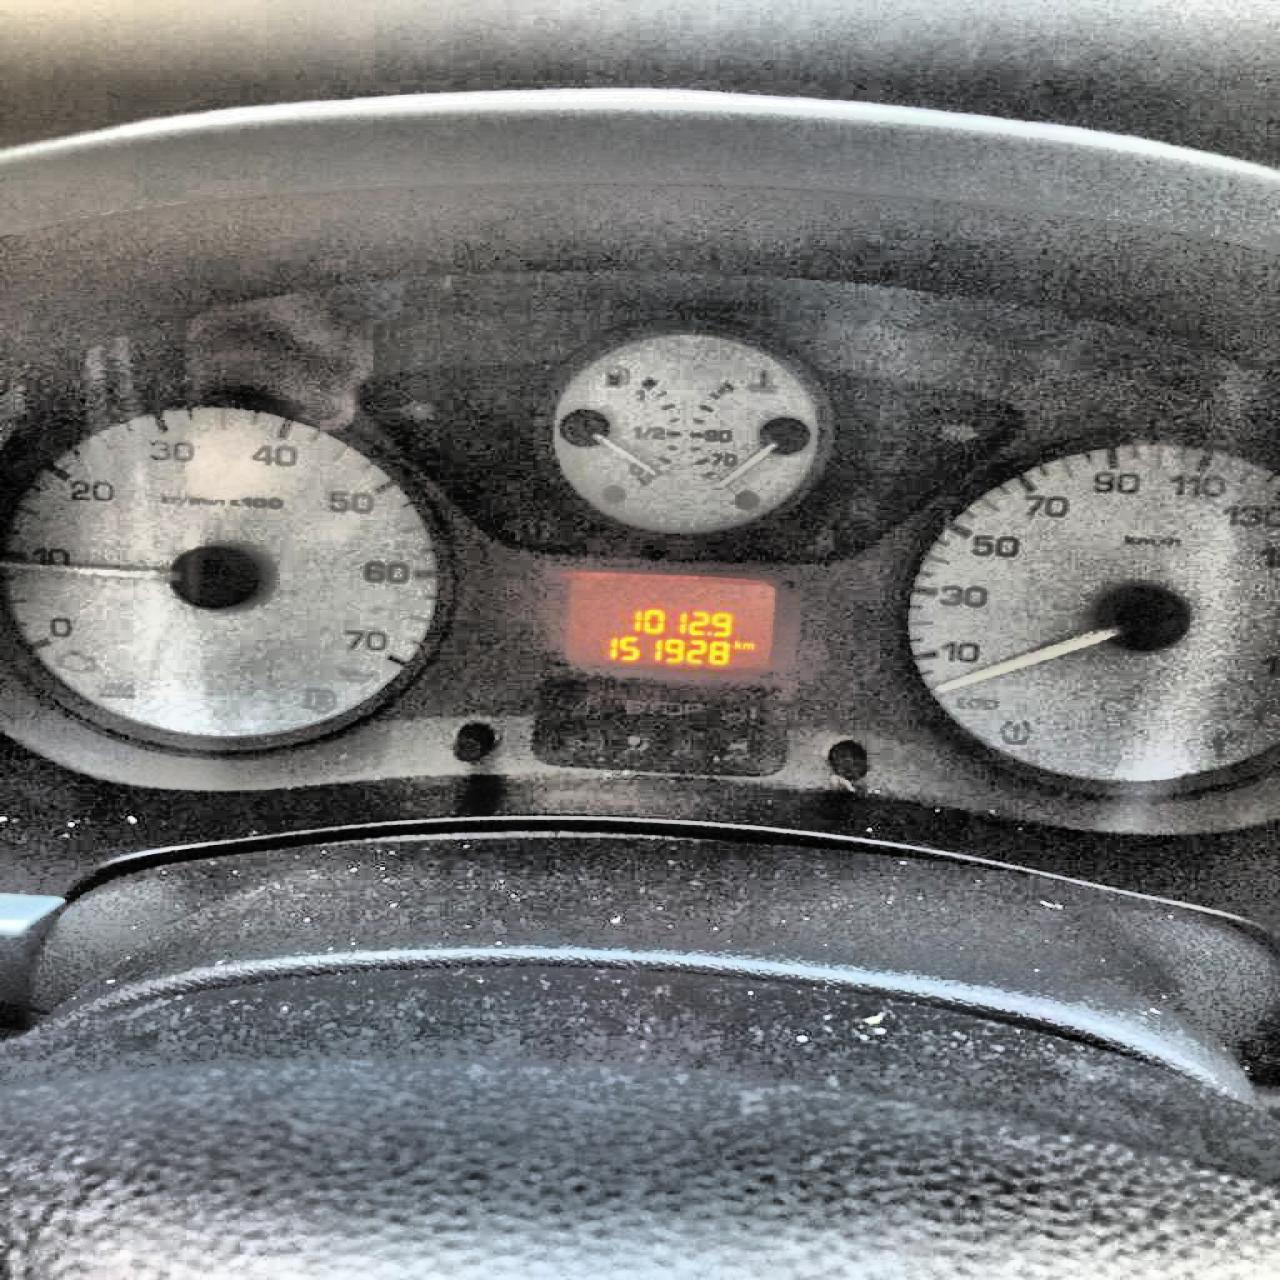-: (704, 629, 710, 635)
0: (641, 608, 663, 633)
1: (676, 610, 687, 634), (606, 636, 617, 659), (632, 608, 641, 632), (652, 638, 661, 660)
2: (686, 639, 707, 663), (687, 611, 708, 634)
5: (618, 635, 640, 660)
8: (707, 640, 728, 663)
9: (662, 638, 683, 662), (710, 612, 731, 636)
X: (731, 639, 741, 649), (742, 641, 754, 648)
odometer: (558, 570, 779, 670)
